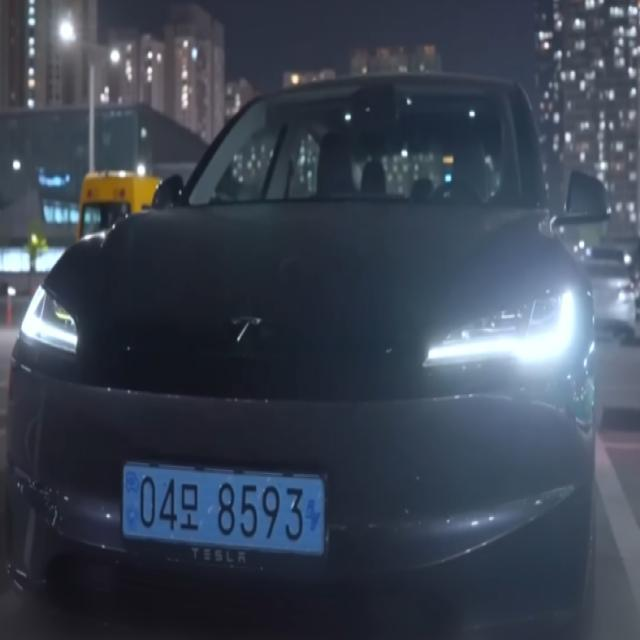car: (92, 444, 364, 585)
carev: (115, 454, 141, 545), (304, 472, 330, 558)
